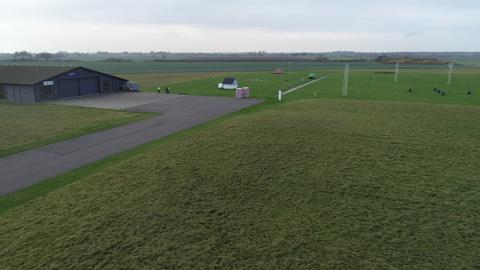RockwoolPallet: (241, 86, 250, 97)
